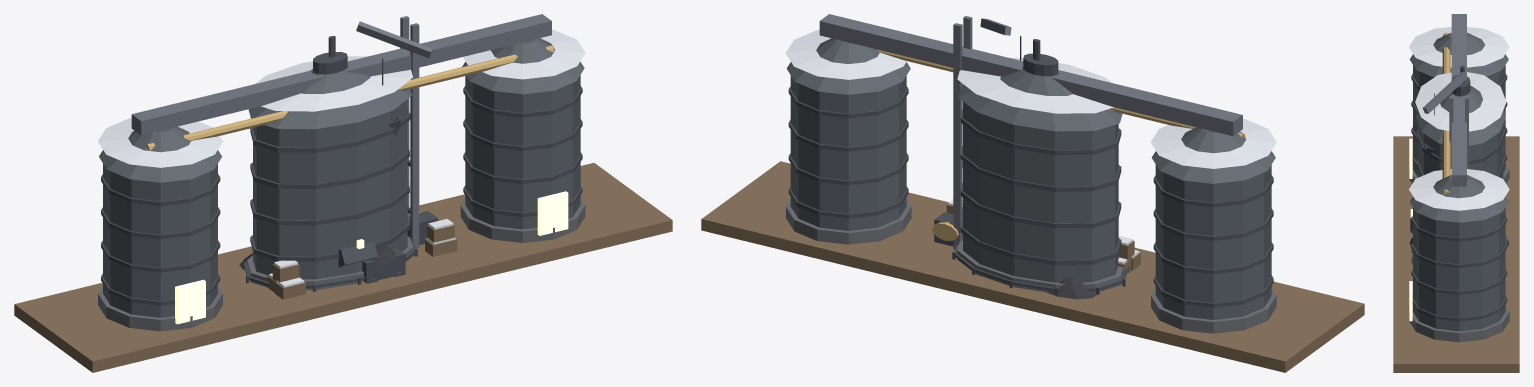
File: resource_depot.glb
3 renders of one model, left to right at view 1: azimuth 30°, elevation 25°; view 2: azimuth 150°, elevation 25°; view 3: azimuth 270°, elevation 25°, orthographic. The views are drawn at different scales.
Parts seen in each view (by area): view 1: resource_depot_Building; view 2: resource_depot_Building; view 3: resource_depot_Building.
Part boxes in pixels (x1,y1,x2,y2): resource_depot_Building: (14, 14, 672, 372); resource_depot_Building: (701, 14, 1364, 372); resource_depot_Building: (1393, 14, 1519, 372).
Size of the model in its own units: 19.2 by 7.69 by 4.5.
